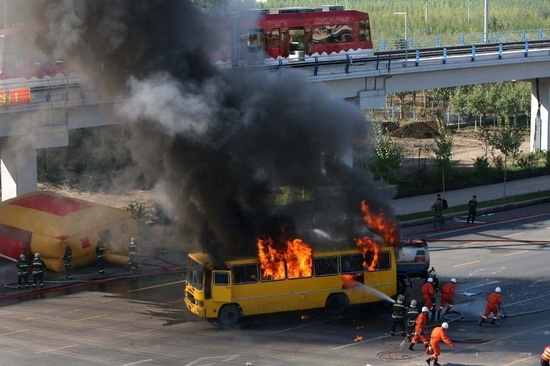fire: (353, 199, 396, 269), (255, 234, 314, 279)
